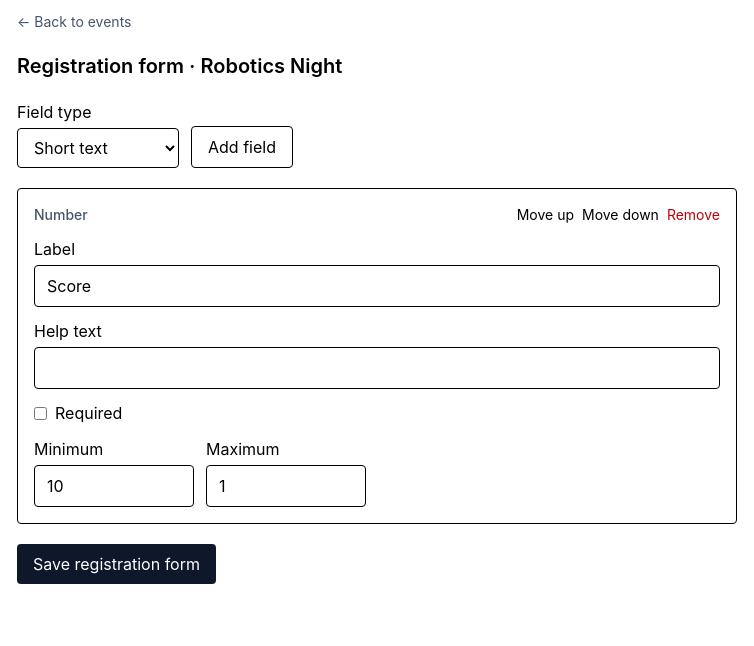
Test case: OfficerRegistrationFormPage › refuses an inverted number range before sending it
Step 1. Click the button "Save registration form" → (116, 564), box x1=17 y1=544 x2=216 y2=584
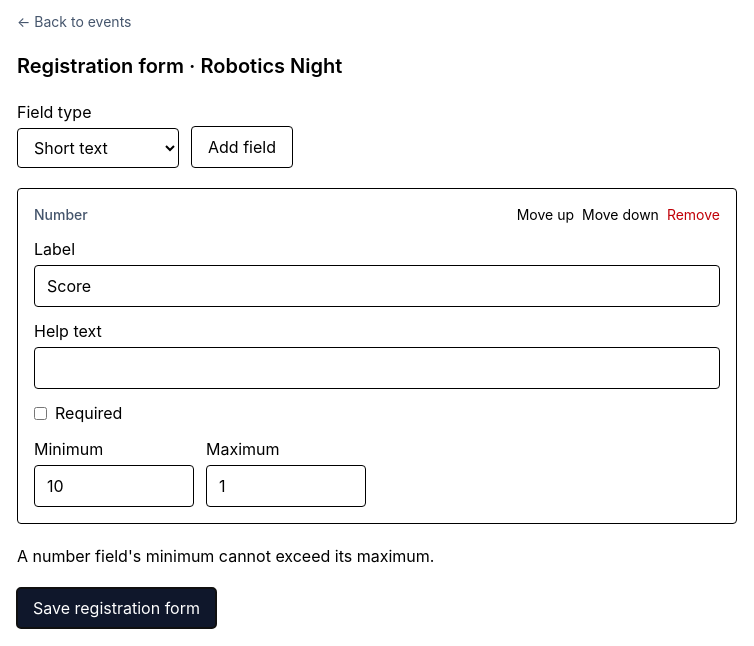
Now the message reads "A number field's minimum cannot exceed its maximum.", box x1=17 y1=546 x2=434 y2=566
